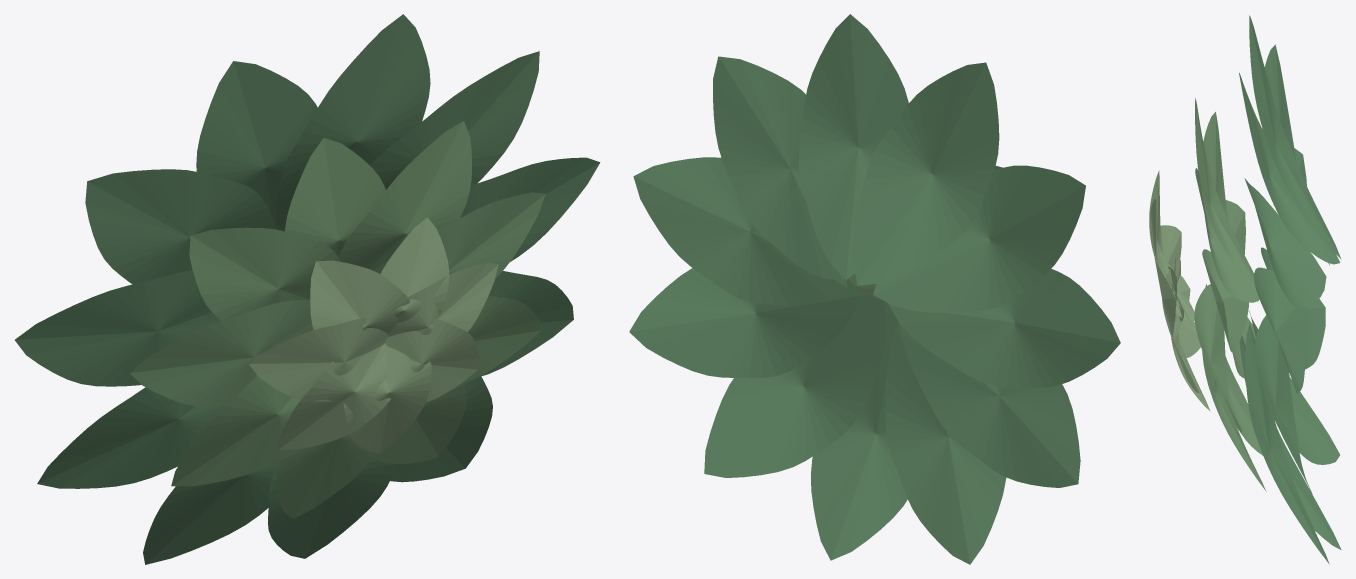
File: lettuce_c.glb
3 renders of one model, left to right at view 1: azimuth 30°, elevation 25°; view 2: azimuth 150°, elevation 25°; view 3: azimuth 270°, elevation 25°, orthographic. The views are drawn at different scales.
Parts seen in each view (by area): view 1: Outer, Middle, Heart; view 2: Outer; view 3: Outer, Middle, Heart.
Boxes of the visible parts, x1,y1,x2,y2 form: Outer: (15,14,600,564); Middle: (130,121,545,518); Heart: (249,217,498,452); Outer: (629,14,1120,564); Outer: (1239,15,1341,564); Middle: (1194,97,1266,491); Heart: (1149,170,1210,410).
Bounding box in the file's own units: 0.528 × 0.5085 × 0.1797.
